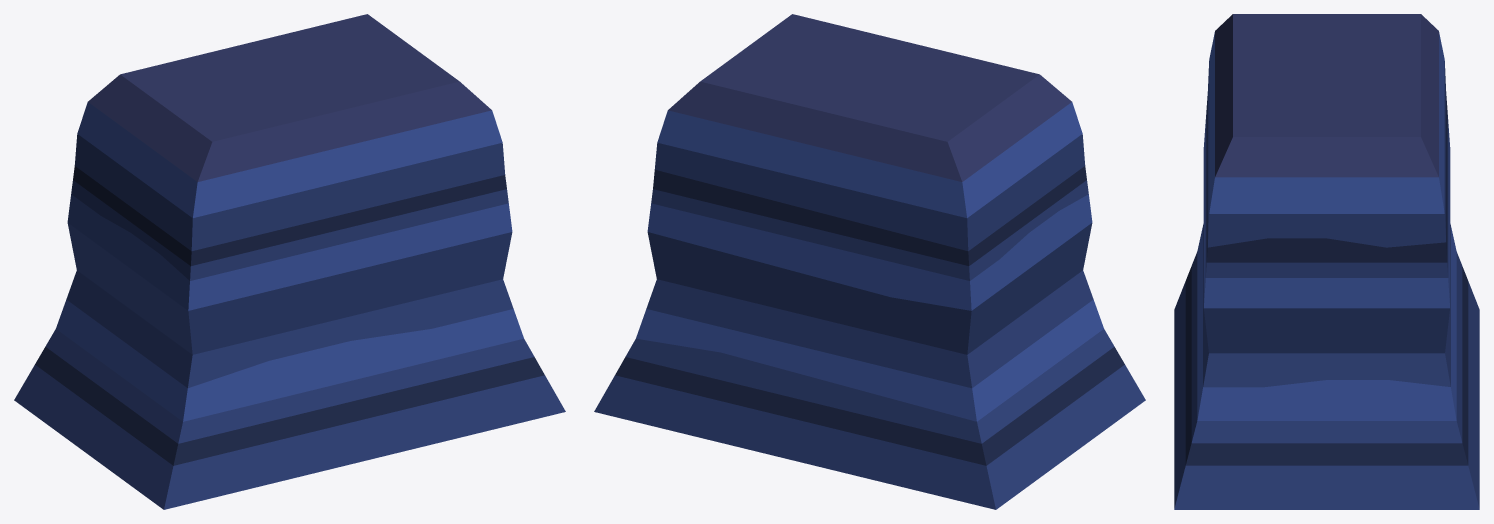
File: StoneWall021.fbx
The picture shows the model from 3 angles, left to right: view 1: azimuth 30°, elevation 25°; view 2: azimuth 150°, elevation 25°; view 3: azimuth 270°, elevation 25°; orthographic projection.
Visible parts, largest first — view 1: StoneWall021; view 2: StoneWall021; view 3: StoneWall021.
Boxes of the visible parts, x1,y1,x2,y2 form: StoneWall021: (14,14,565,509); StoneWall021: (594,14,1145,509); StoneWall021: (1174,14,1479,509).
Bounding box in the file's own units: 537 × 418 × 347.
